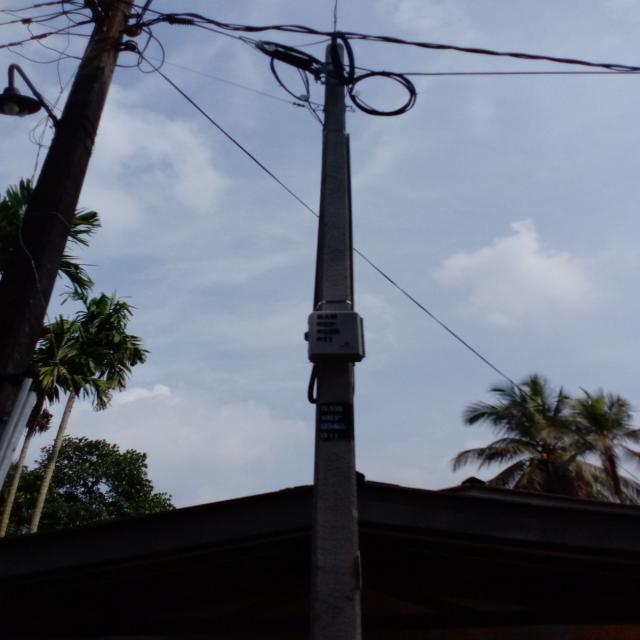light_pole: (293, 35, 376, 640)
